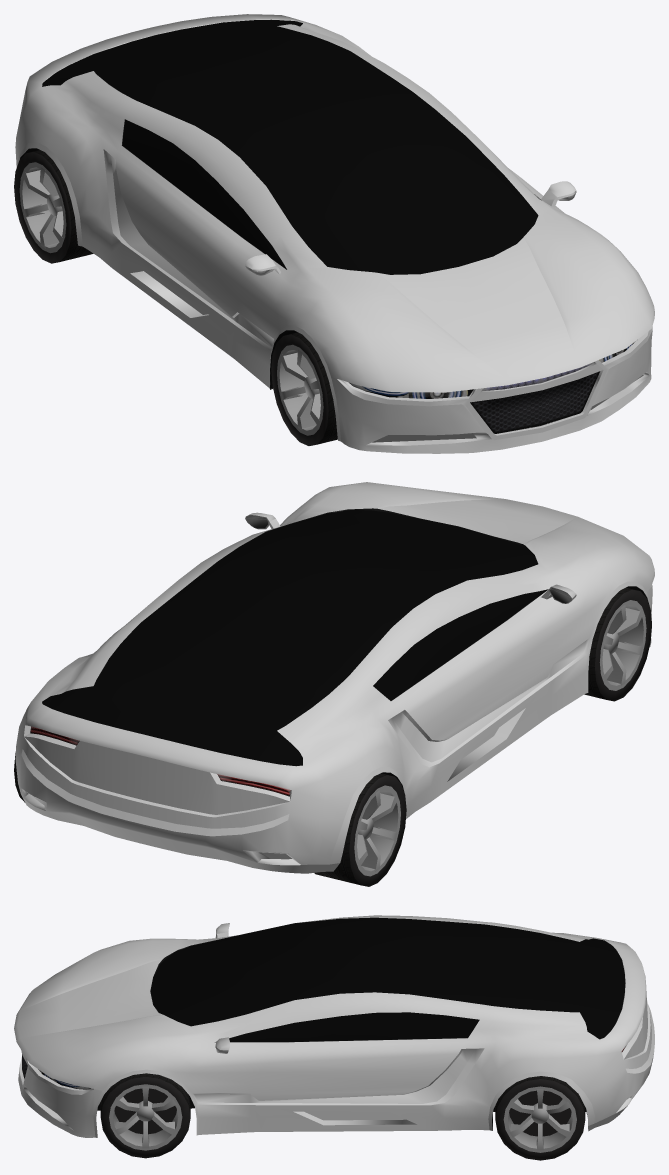
3 views of the same model, one above another, from view 1: azimuth 30°, elevation 25°; view 2: azimuth 150°, elevation 25°; view 3: azimuth 270°, elevation 25° (orthographic). The views are drawn at different scales.
Parts seen in each view (by area): view 1: body1, wheel_FR, wheel_BR; view 2: body1, wheel_BR, wheel_FR; view 3: body1, wheel_FL, wheel_BL.
Part boxes in pixels (x1,y1,x2,y2): body1: [15, 14, 654, 453]; wheel_FR: [271, 332, 337, 445]; wheel_BR: [14, 150, 93, 263]; body1: [15, 482, 654, 873]; wheel_BR: [314, 773, 406, 886]; wheel_FR: [584, 587, 651, 701]; body1: [14, 915, 654, 1137]; wheel_FL: [100, 1073, 190, 1158]; wheel_BL: [495, 1076, 585, 1160].
Bounding box in the file's own units: 230 × 123 × 481.
Materials: 6 (3 with a texture image).
